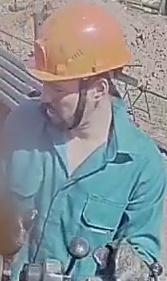gloves: (93, 235, 156, 281)
helmet: (23, 1, 132, 88)
vest: (4, 96, 166, 280)
